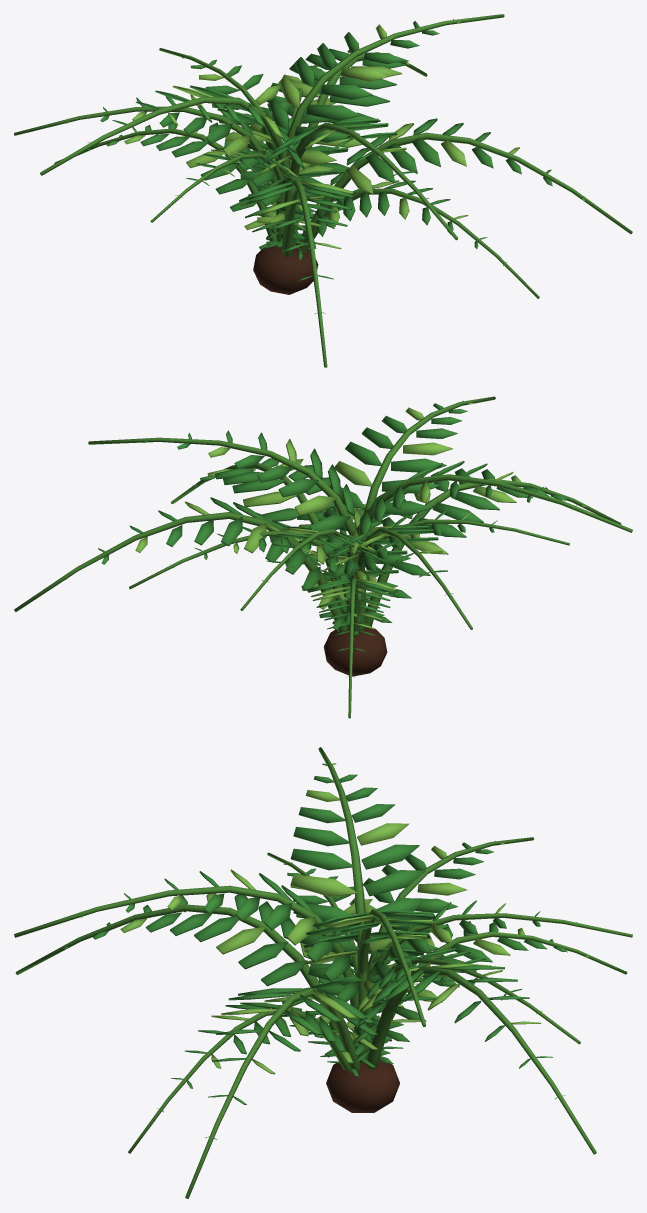
Rendered from canopy_fern_clump.glb.
The picture shows the model from 3 angles, top to bottom: view 1: azimuth 30°, elevation 25°; view 2: azimuth 150°, elevation 25°; view 3: azimuth 270°, elevation 25°; orthographic projection. The views are drawn at different scales.
Parts seen in each view (by area): view 1: canopy_fern_clump; view 2: canopy_fern_clump; view 3: canopy_fern_clump.
Part boxes in pixels (x1,y1,x2,y2): canopy_fern_clump: (14,14,632,367); canopy_fern_clump: (14,396,632,718); canopy_fern_clump: (14,747,632,1198).
Size of the model in its own units: 22.54 by 9 by 20.4.
